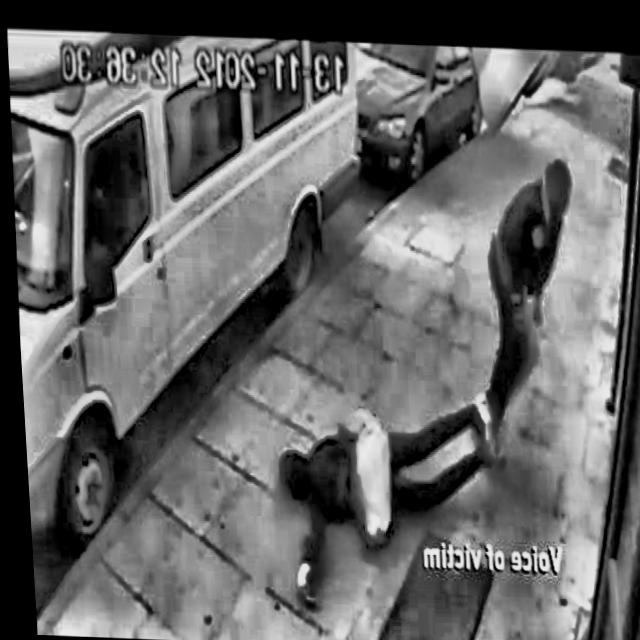robbery: (240, 128, 598, 544)
